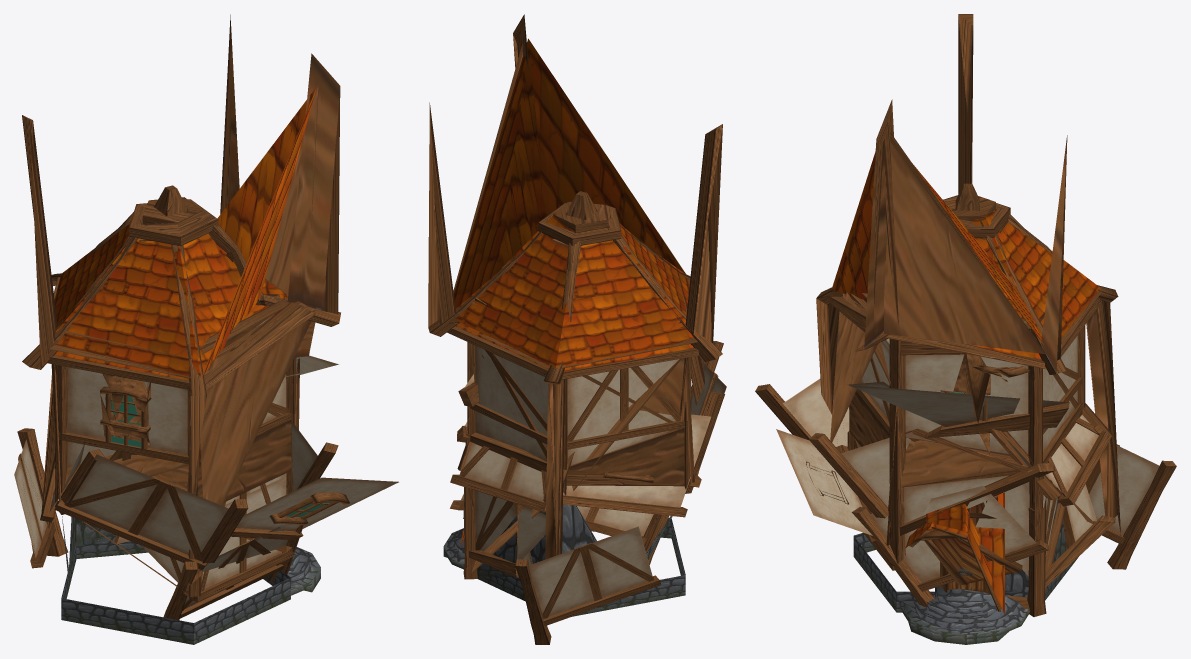
Rendered from house4_morf.fbx.
3 views of the same model, side by side, from view 1: azimuth 30°, elevation 25°; view 2: azimuth 150°, elevation 25°; view 3: azimuth 270°, elevation 25° (orthographic). The views are drawn at different scales.
Parts seen in each view (by area): view 1: higherhousebefore.001, higherhouseafter.001; view 2: higherhousebefore.001, higherhouseafter.001; view 3: higherhousebefore.001, higherhouseafter.001.
Boxes of the visible parts, x1,y1,x2,y2 form: higherhousebefore.001: (22,14,340,597); higherhouseafter.001: (14,185,398,644); higherhousebefore.001: (428,14,722,576); higherhouseafter.001: (428,191,726,644); higherhousebefore.001: (816,14,1120,644); higherhouseafter.001: (755,183,1176,639).
Size of the model in its own units: 102 by 184 by 131.
6 materials, 4 textured.
